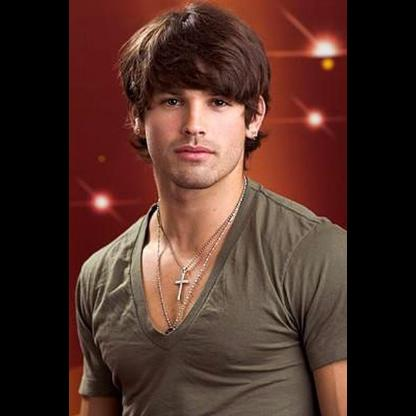Male: (128, 80, 264, 188)
